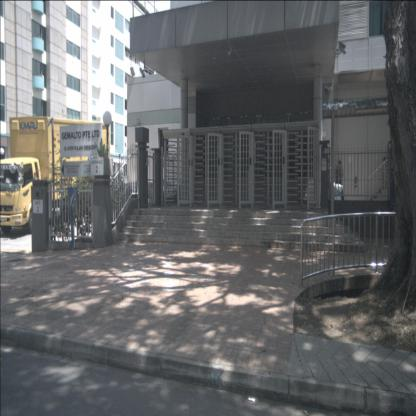vehicle-truck: (0, 117, 110, 232)
